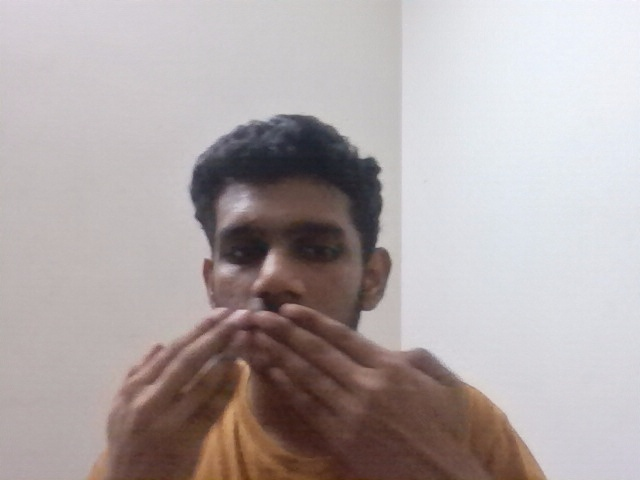thanks: (72, 304, 490, 466)
